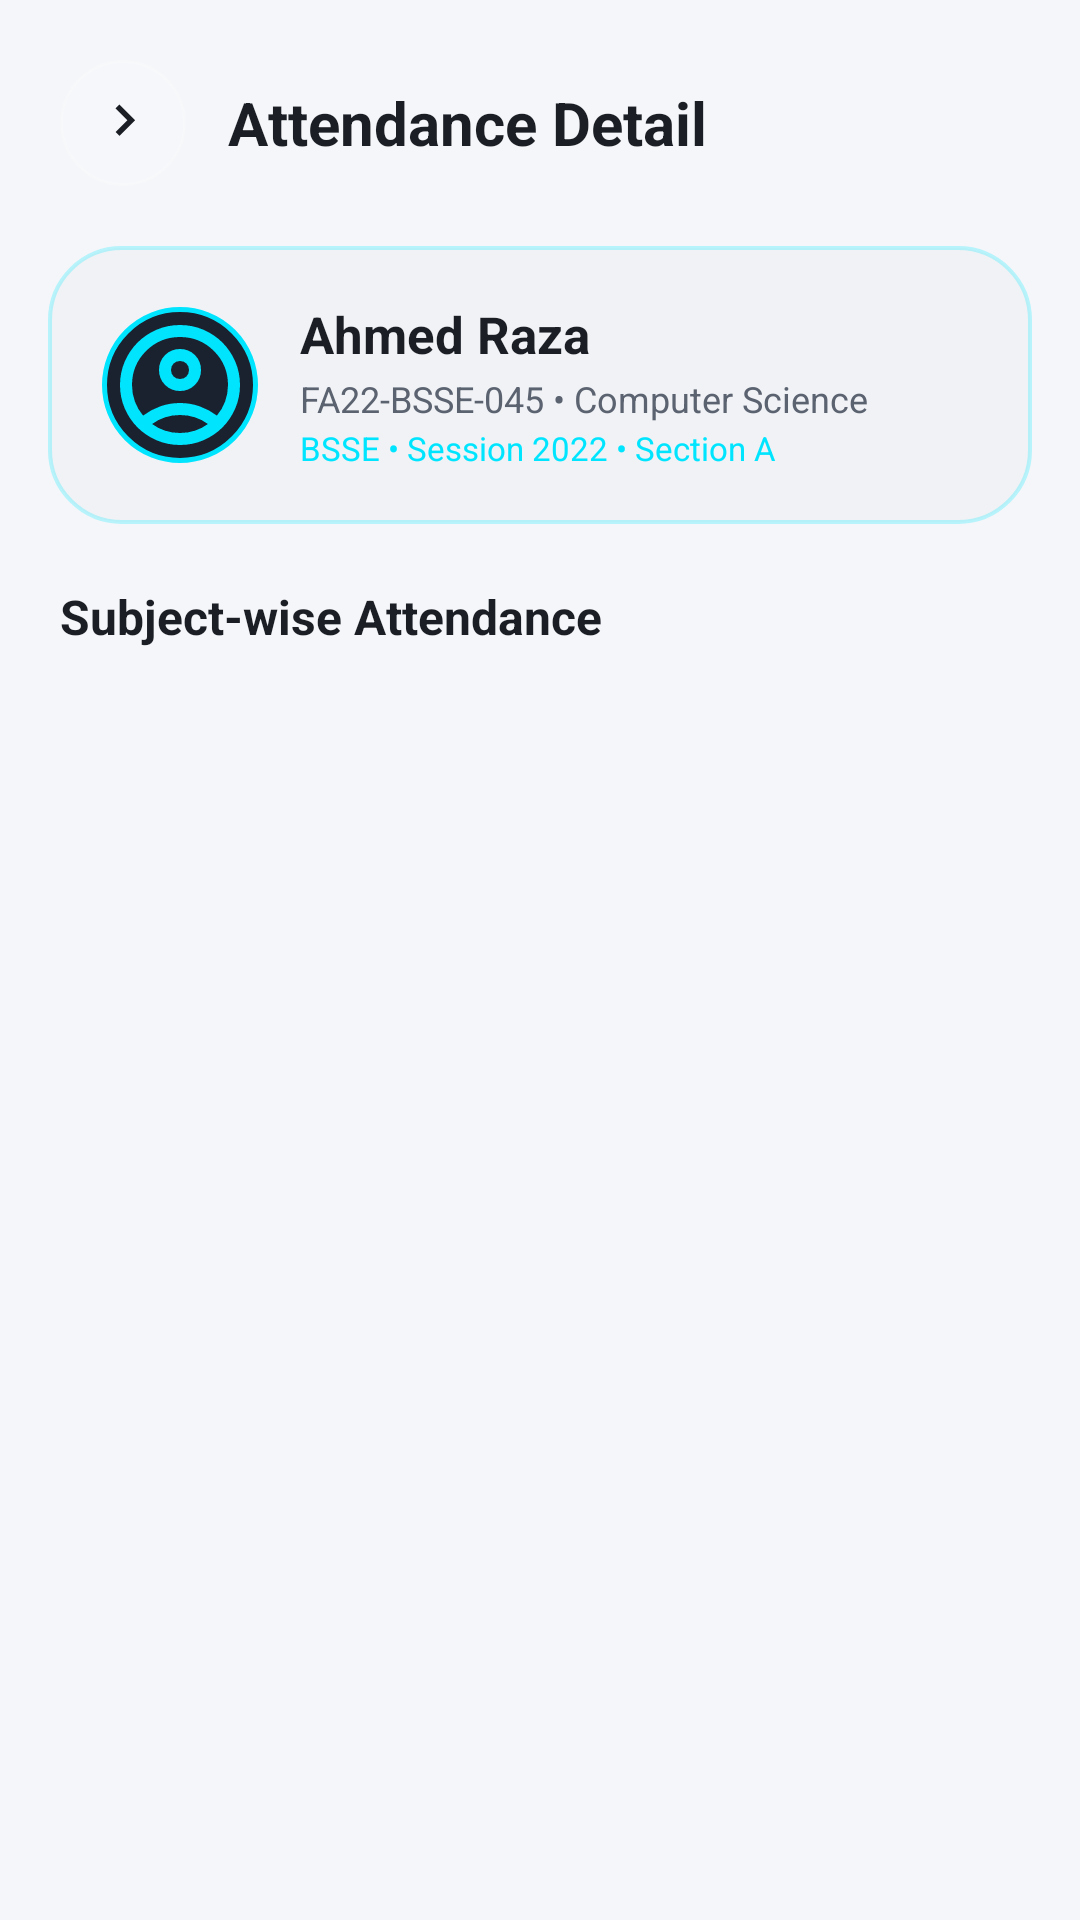

Screen size 1080px×1920px. Icon name, then its box in pixels as (x1, y1, x2, y2):
account circle: (102, 307, 258, 463)
arrow: (115, 104, 135, 136)
